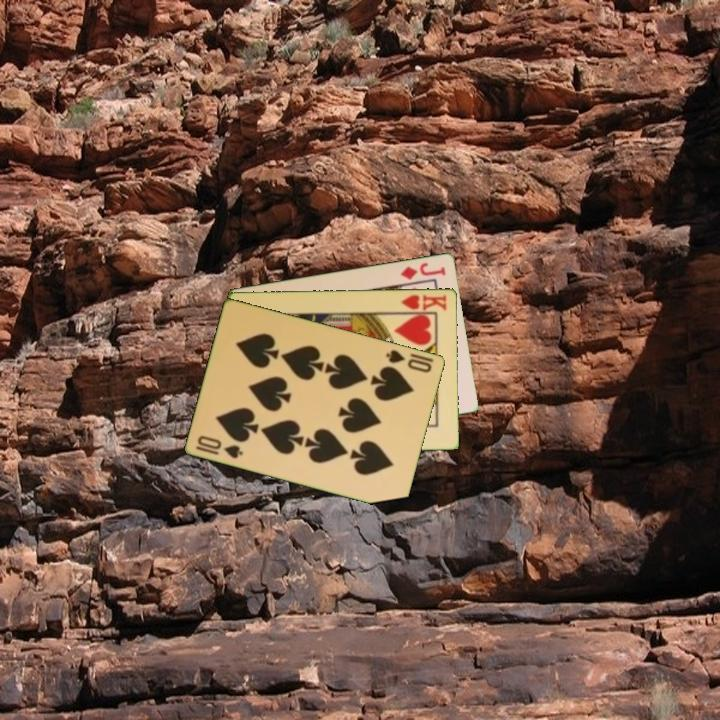10s: (193, 432, 246, 461), (383, 346, 435, 375)
Jd: (397, 259, 449, 282)
Kh: (394, 291, 450, 315)
